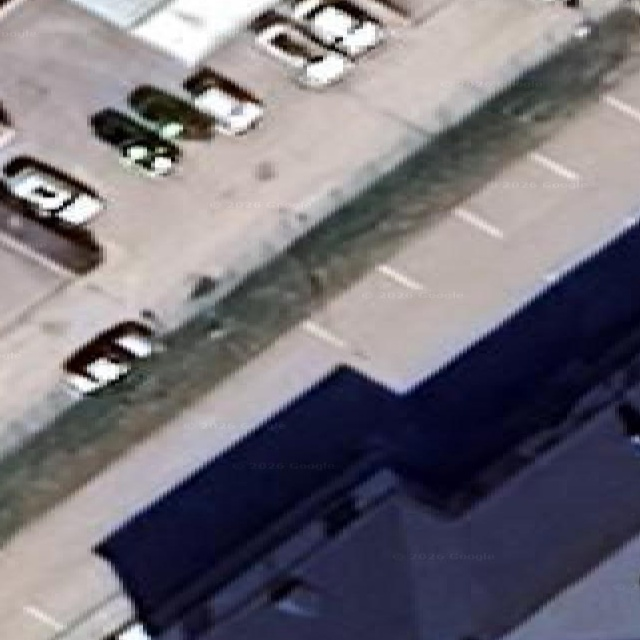car: (253, 14, 351, 87), (63, 321, 154, 394), (4, 158, 103, 225), (90, 108, 179, 176), (183, 67, 263, 135), (293, 0, 383, 57), (128, 86, 212, 139), (107, 622, 150, 639)
